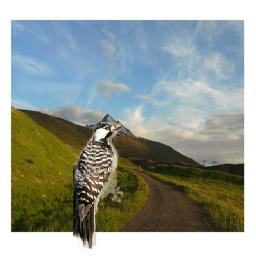Woodpecker: (73, 123, 123, 250)
